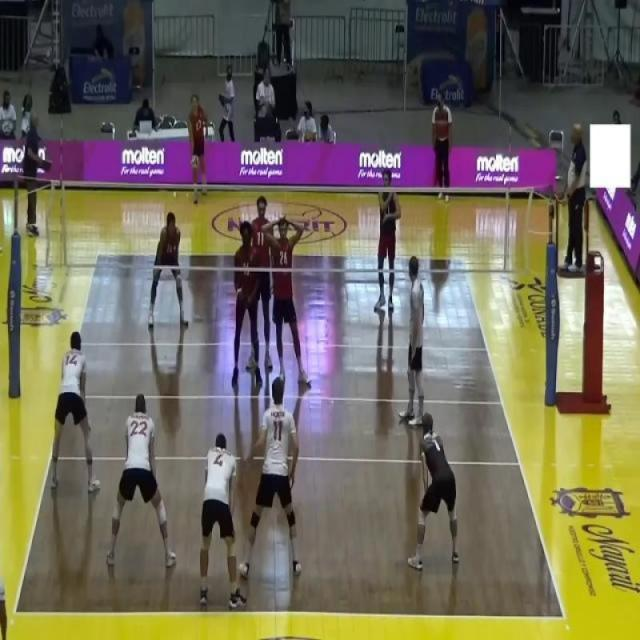volleyball: (190, 154, 200, 170)
